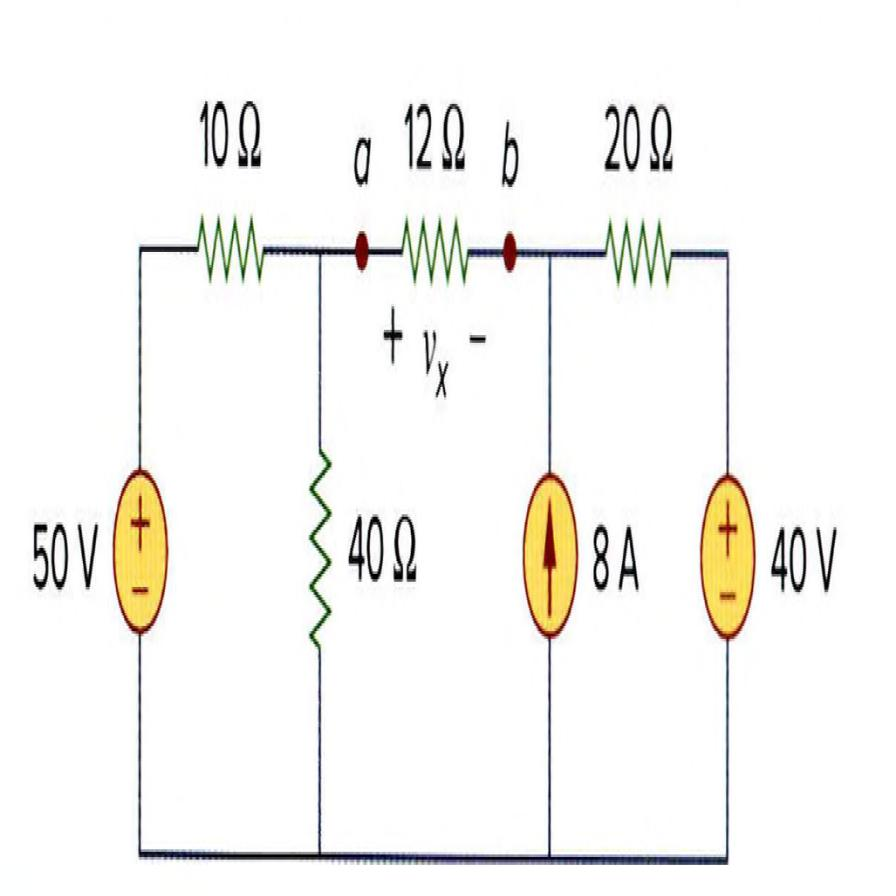I1: (513, 453, 584, 660)
R1: (182, 189, 273, 326), (596, 182, 678, 328), (391, 189, 474, 308)
R2: (295, 425, 342, 679)
V1: (690, 442, 760, 668), (106, 449, 176, 653)
